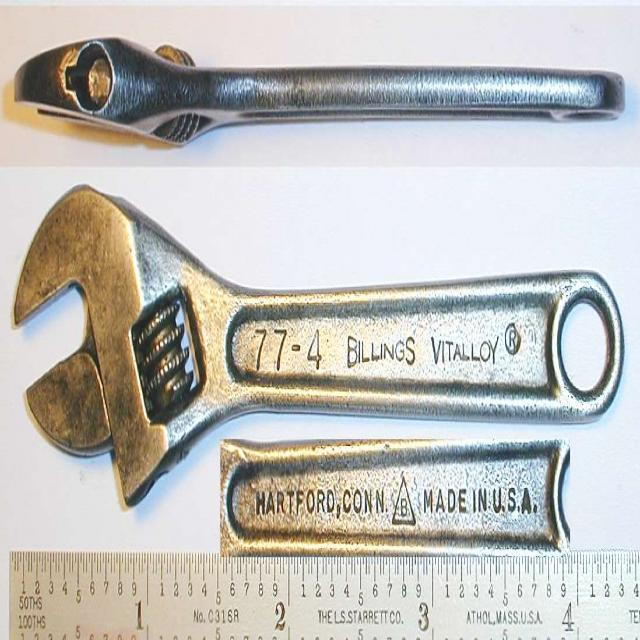wrench: (11, 176, 628, 518), (12, 23, 625, 150)
